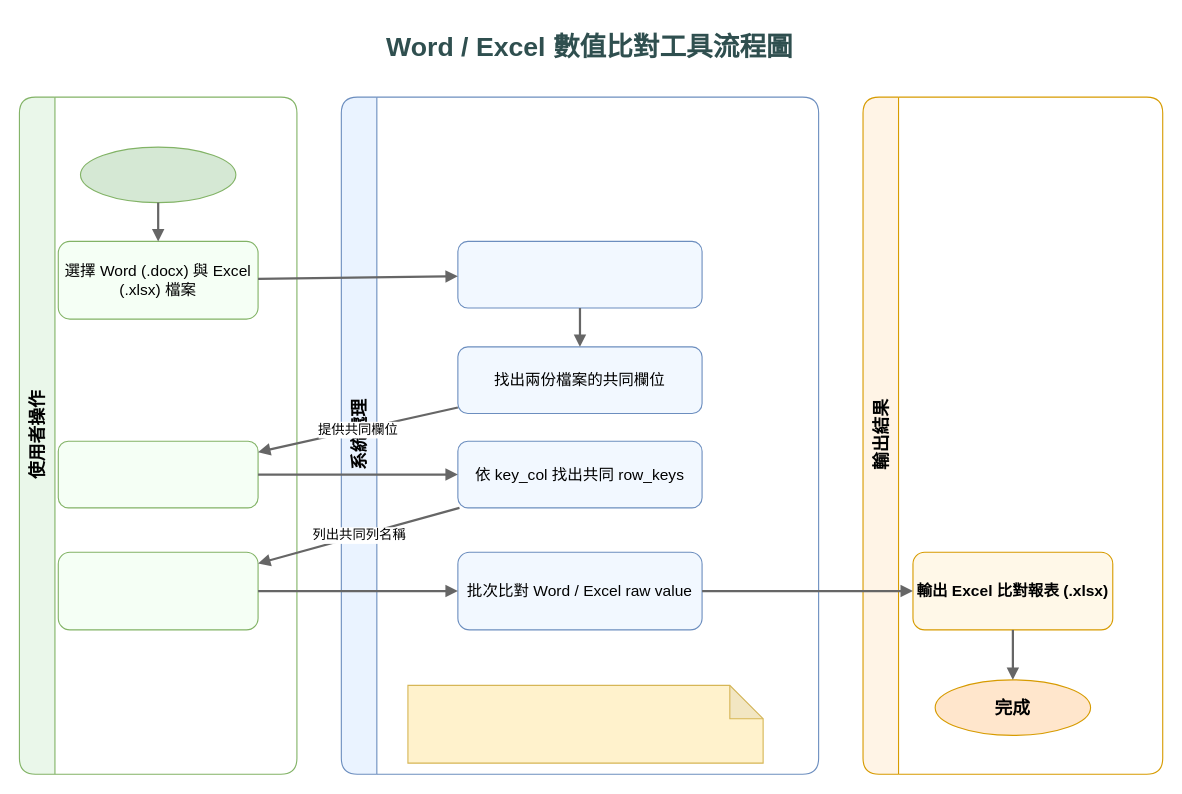
This 1182x794 diagram has some shape labels left out. Here are the shapes that lost their labels. From the top down, the centre of each, then its label:
(x=157, y=174): 開始
(x=579, y=274): 讀取 Word table 與 Excel table
(x=157, y=474): 選擇主要欄位 key_col
(x=157, y=590): 勾選 row_keys 與 compare_cols
(x=585, y=723): 設計重點：格式固定、使用者選定比對範圍、系統負責批次比對與報表輸出
